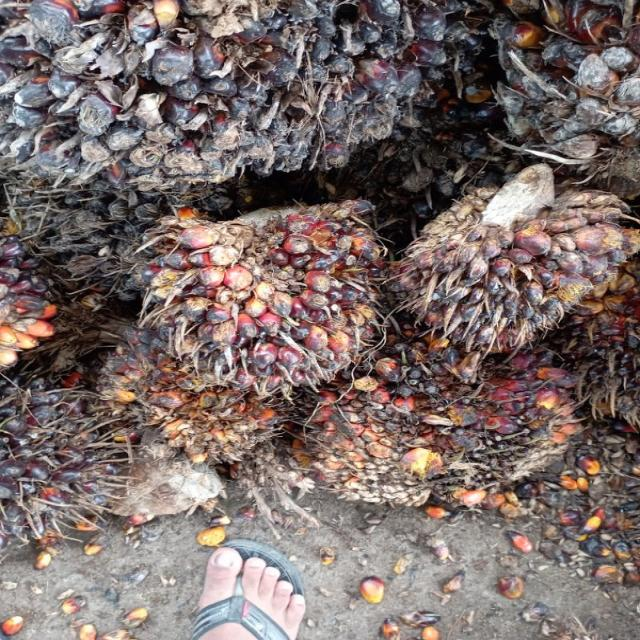fraksi 00: (0, 0, 491, 188)
fraksi 1: (111, 193, 410, 422), (266, 361, 616, 538), (394, 157, 632, 387)
